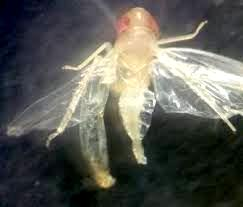Helopeltis-insect: (77, 4, 186, 148)
